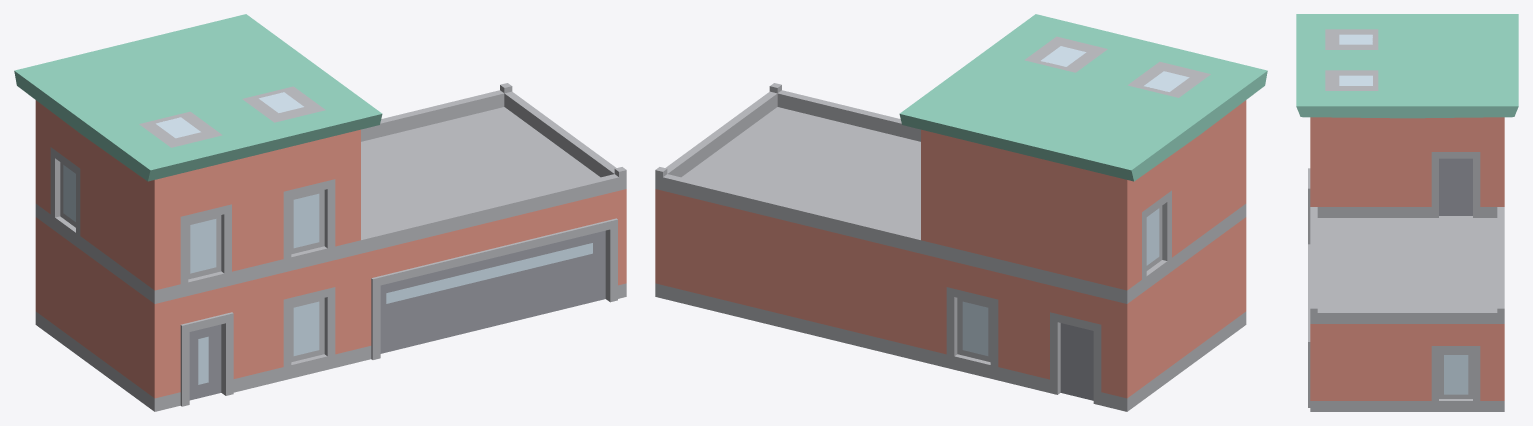
File: house_type18mod.glb
The picture shows the model from 3 angles, left to right: view 1: azimuth 30°, elevation 25°; view 2: azimuth 150°, elevation 25°; view 3: azimuth 270°, elevation 25°; orthographic projection. The views are drawn at different scales.
Parts seen in each view (by area): view 1: house_type18; view 2: house_type18; view 3: house_type18.
Boxes of the visible parts, x1,y1,x2,y2 form: house_type18: [14, 14, 626, 411]; house_type18: [655, 14, 1267, 411]; house_type18: [1296, 14, 1518, 411].
Size of the model in its own units: 1.88 by 0.9306 by 0.916.
